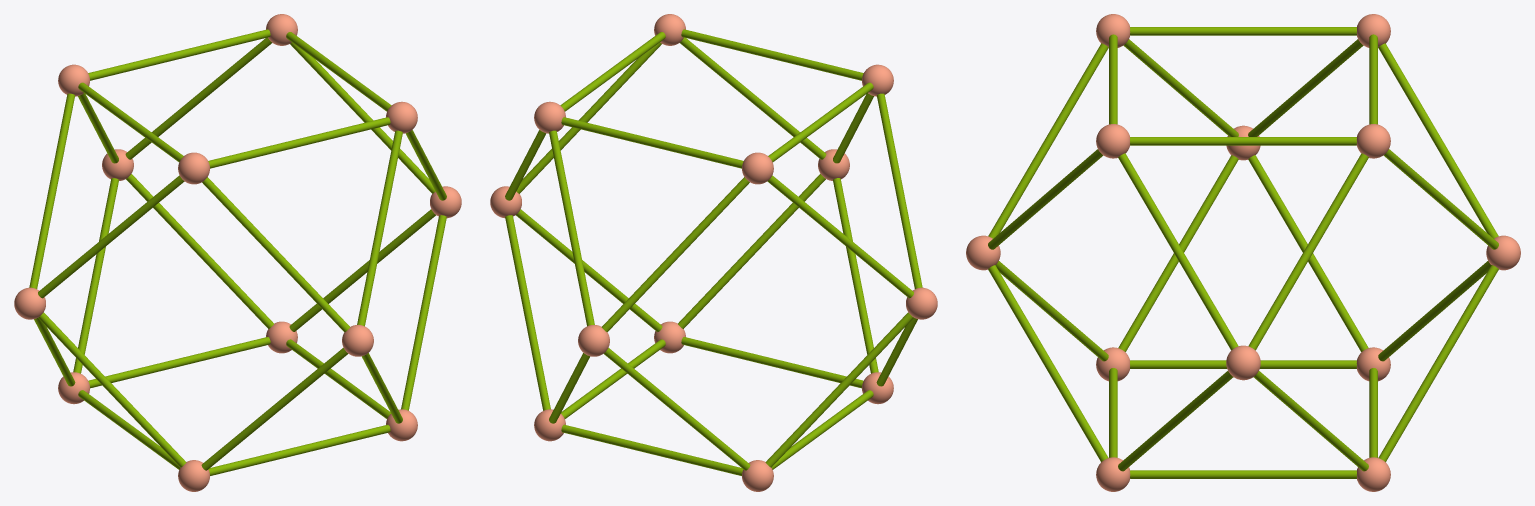
File: cuboctahedron.glb
The picture shows the model from 3 angles, left to right: view 1: azimuth 30°, elevation 25°; view 2: azimuth 150°, elevation 25°; view 3: azimuth 270°, elevation 25°; orthographic projection. The views are drawn at different scales.
Bounding box in the file's own units: 8.32 × 6.04 × 8.32.
